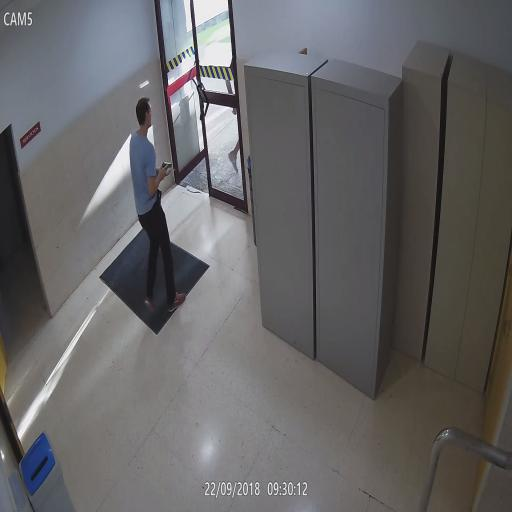Handgun: (158, 160, 176, 181)
